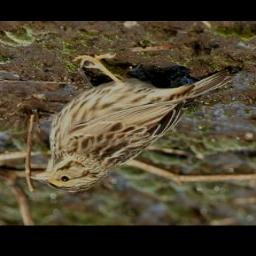Sparrow: (30, 51, 240, 194)
